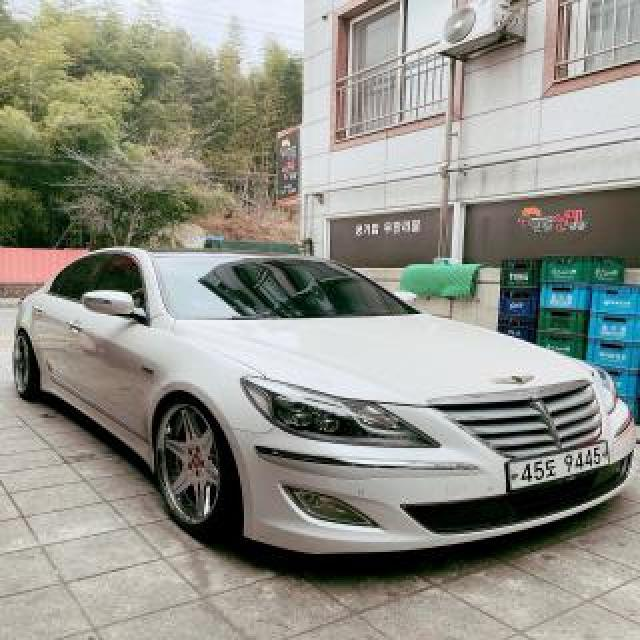car: (8, 240, 640, 567)
illegal_plate: (503, 441, 616, 496)
